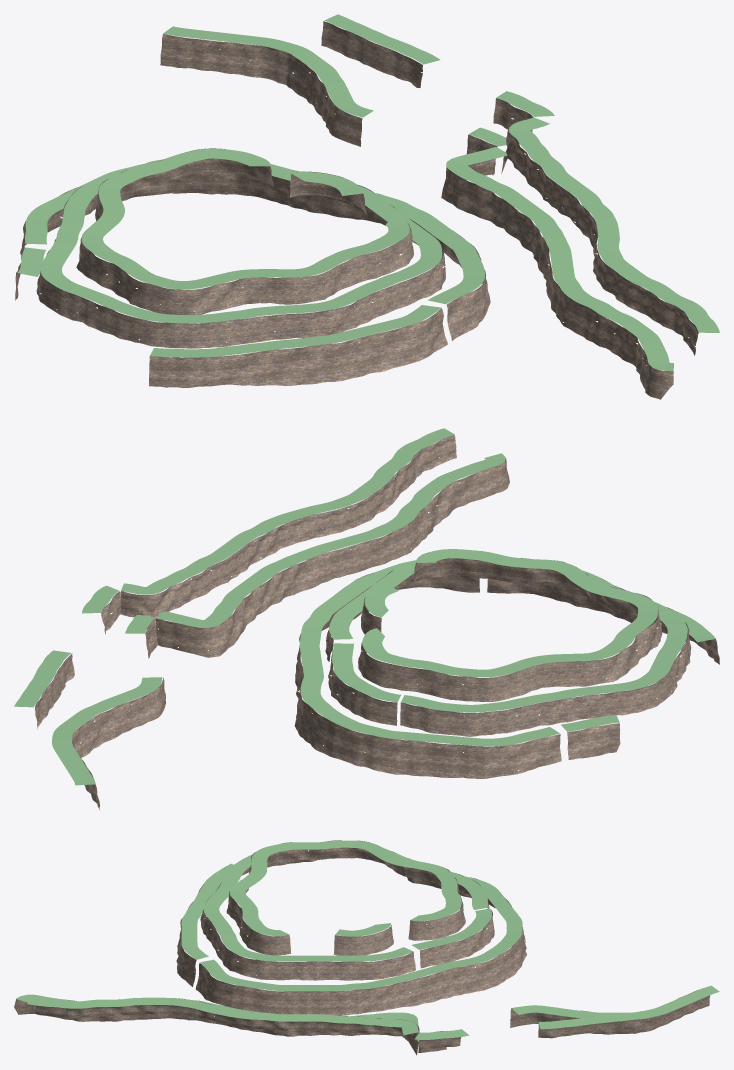
File: CliffWall_plateau_east.glb
The picture shows the model from 3 angles, top to bottom: view 1: azimuth 30°, elevation 25°; view 2: azimuth 150°, elevation 25°; view 3: azimuth 270°, elevation 25°; orthographic projection. The views are drawn at different scales.
Parts seen in each view (by area): view 1: CliffWall_plateau_east-rock0, CliffWall_plateau_east-rock3, CliffWall_plateau_east-rock12, CliffWall_plateau_east-lip3, CliffWall_plateau_east-rock7, CliffWall_plateau_east-lip0, CliffWall_plateau_east-rock9, CliffWall_plateau_east-rock11, CliffWall_plateau_east-lip7, CliffWall_plateau_east-rock4, CliffWall_plateau_east-lip4, CliffWall_plateau_east-lip11 (+9 smaller); view 2: CliffWall_plateau_east-rock7, CliffWall_plateau_east-rock11, CliffWall_plateau_east-rock0, CliffWall_plateau_east-rock3, CliffWall_plateau_east-rock4, CliffWall_plateau_east-lip0, CliffWall_plateau_east-lip11, CliffWall_plateau_east-lip3, CliffWall_plateau_east-lip7, CliffWall_plateau_east-lip4, CliffWall_plateau_east-rock9, CliffWall_plateau_east-lip9 (+7 smaller); view 3: CliffWall_plateau_east-rock11, CliffWall_plateau_east-rock3, CliffWall_plateau_east-rock0, CliffWall_plateau_east-lip0, CliffWall_plateau_east-rock4, CliffWall_plateau_east-lip11, CliffWall_plateau_east-lip3, CliffWall_plateau_east-lip4, CliffWall_plateau_east-rock7, CliffWall_plateau_east-rock9, CliffWall_plateau_east-lip12, CliffWall_plateau_east-lip9 (+10 smaller).
Part boxes in pixels (box(x1,y1,x2,y2)): CliffWall_plateau_east-rock0: box(76, 148, 413, 315); CliffWall_plateau_east-rock3: box(36, 184, 445, 348); CliffWall_plateau_east-rock12: box(149, 308, 447, 387); CliffWall_plateau_east-lip3: box(40, 172, 442, 323); CliffWall_plateau_east-rock7: box(441, 147, 673, 399); CliffWall_plateau_east-lip0: box(81, 148, 409, 289); CliffWall_plateau_east-rock9: box(160, 34, 362, 146); CliffWall_plateau_east-rock11: box(20, 178, 490, 340); CliffWall_plateau_east-lip7: box(446, 147, 673, 371); CliffWall_plateau_east-rock4: box(501, 119, 698, 355); CliffWall_plateau_east-lip4: box(509, 117, 719, 332); CliffWall_plateau_east-lip11: box(25, 163, 484, 304); CliffWall_plateau_east-rock7: box(155, 458, 509, 657); CliffWall_plateau_east-rock11: box(294, 563, 561, 778); CliffWall_plateau_east-rock0: box(358, 558, 662, 701); CliffWall_plateau_east-rock3: box(325, 560, 691, 736); CliffWall_plateau_east-rock4: box(120, 434, 456, 629); CliffWall_plateau_east-lip0: box(362, 549, 658, 677); CliffWall_plateau_east-lip11: box(299, 560, 559, 746); CliffWall_plateau_east-lip3: box(329, 560, 687, 712); CliffWall_plateau_east-lip7: box(156, 453, 505, 627); CliffWall_plateau_east-lip4: box(121, 428, 454, 594); CliffWall_plateau_east-rock9: box(72, 677, 165, 809); CliffWall_plateau_east-lip9: box(52, 677, 162, 785); CliffWall_plateau_east-rock11: box(195, 877, 526, 1015); CliffWall_plateau_east-rock3: box(200, 851, 489, 980); CliffWall_plateau_east-rock0: box(226, 840, 465, 955); CliffWall_plateau_east-lip0: box(229, 840, 461, 936); CliffWall_plateau_east-rock4: box(35, 998, 419, 1055); CliffWall_plateau_east-lip11: box(200, 876, 522, 991); CliffWall_plateau_east-lip3: box(203, 847, 488, 961); CliffWall_plateau_east-lip4: box(27, 997, 418, 1035); CliffWall_plateau_east-rock7: box(14, 999, 420, 1051); CliffWall_plateau_east-rock9: box(510, 989, 710, 1034); CliffWall_plateau_east-lip12: box(181, 863, 233, 959); CliffWall_plateau_east-lip9: box(512, 985, 719, 1019).
Bounding box in the file's own units: 1094 × 147 × 1638.
Materials: 4 (1 with a texture image).
